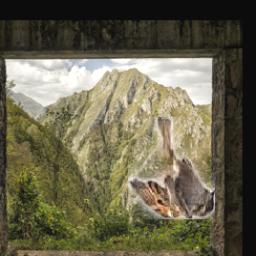Sparrow: (129, 117, 216, 219)
